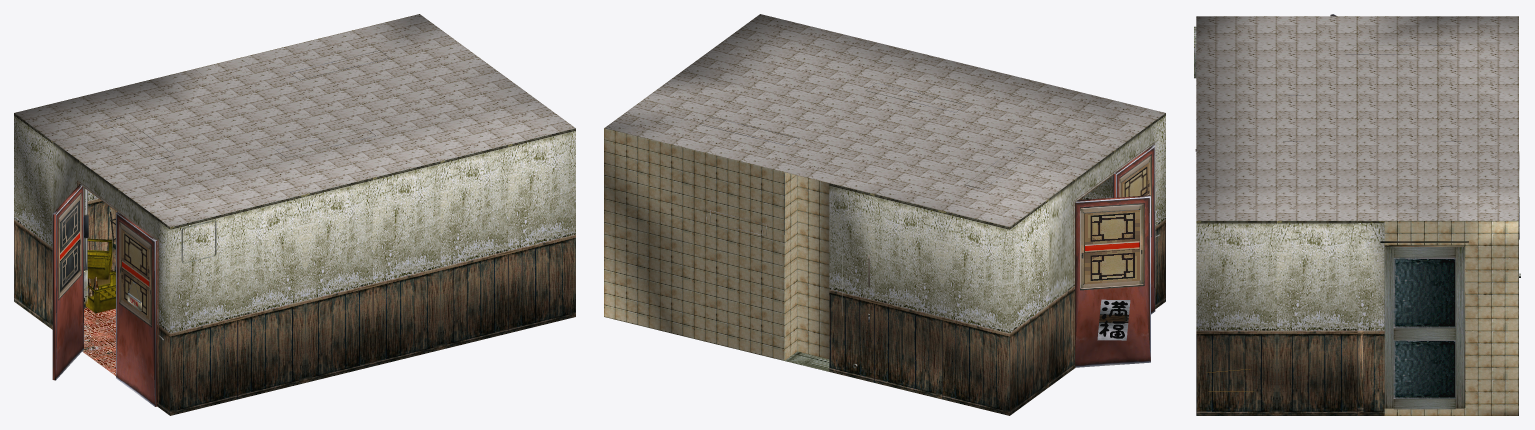
File: RamenRestaurant.fbx
The picture shows the model from 3 angles, left to right: view 1: azimuth 30°, elevation 25°; view 2: azimuth 150°, elevation 25°; view 3: azimuth 270°, elevation 25°; orthographic projection. The views are drawn at different scales.
Parts seen in each view (by area): view 1: obj_5, obj_1, obj_3, obj_0, obj_6, obj_4, Right_Door, Left_Door; view 2: obj_0, obj_6, obj_4, obj_5, Left_Door, obj_1, obj_3, Right_Door; view 3: obj_1, obj_6, obj_5, obj_0, obj_3, obj_4, obj_2.
Part boxes in pixels (box(x1,y1,x2,y2)): obj_5: box(77, 137, 305, 415); obj_1: box(363, 71, 575, 349); obj_3: box(227, 104, 440, 382); obj_0: box(14, 80, 226, 358); obj_6: box(285, 14, 497, 103); obj_4: box(150, 47, 362, 136); Right_Door: box(116, 212, 157, 406); Left_Door: box(52, 184, 83, 380); obj_0: box(874, 137, 1087, 415); obj_6: box(604, 71, 816, 360); obj_4: box(740, 104, 952, 382); obj_5: box(953, 80, 1165, 368); Left_Door: box(1075, 195, 1150, 367); obj_1: box(682, 14, 894, 103); obj_3: box(817, 47, 1029, 136); Right_Door: box(1113, 145, 1155, 314); obj_1: box(1196, 152, 1357, 415); obj_6: box(1357, 141, 1519, 415); obj_5: box(1194, 16, 1357, 151); obj_0: box(1346, 16, 1518, 84); obj_3: box(1196, 84, 1357, 152); obj_4: box(1357, 84, 1518, 152); obj_2: box(1357, 273, 1520, 411).
Bounding box in the file's own units: 158 × 62.26 × 94.24.
